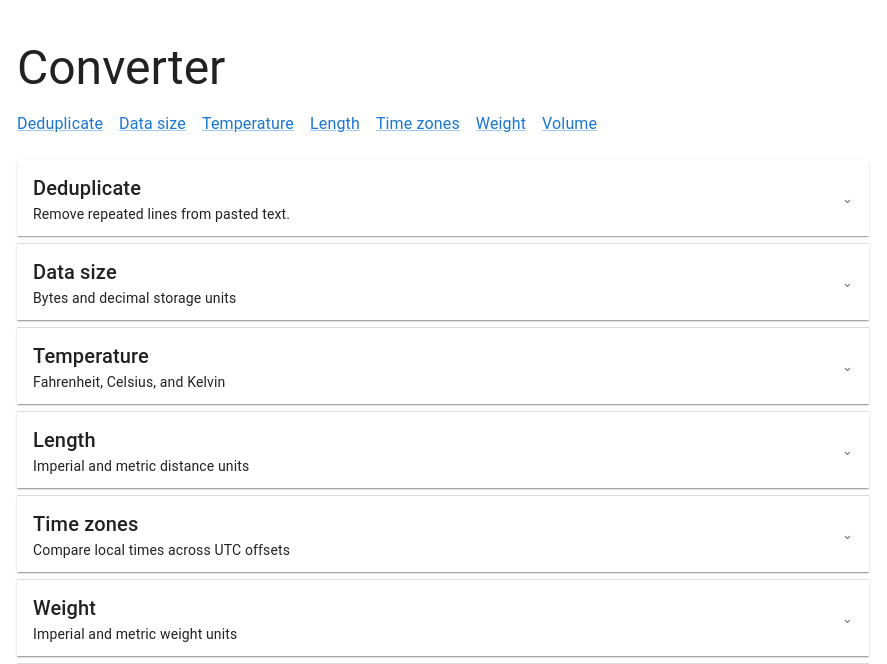
Test: converter app › calculates all standard outputs and reveals advanced results
This screenshot has width=887, height=664.
Click the button "Data size Bytes and decimal storage units ⌄".
click(75, 272)  # box [17,244,869,320]
(page scrolled)
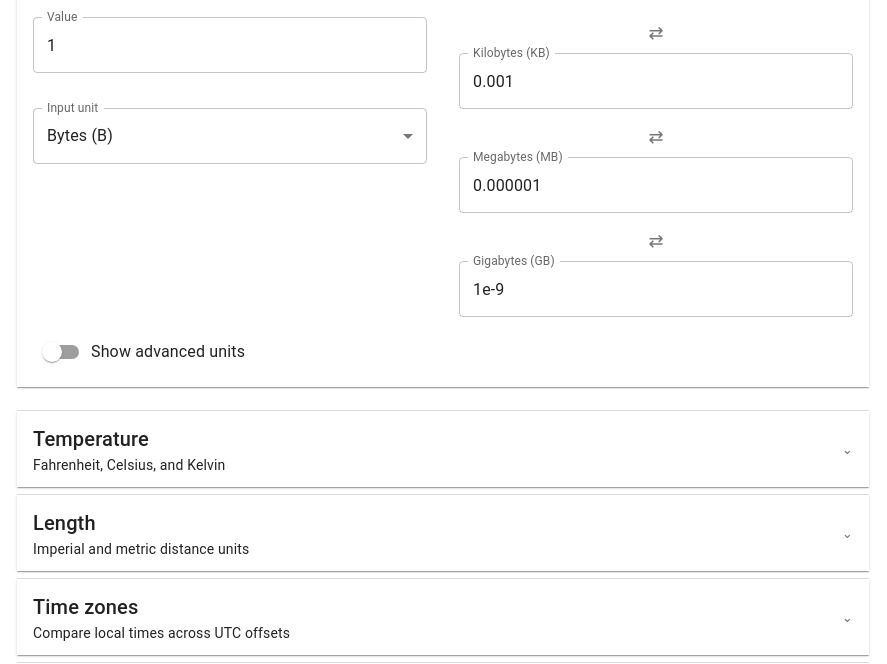
Expected: the field labelled "Kilobytes (KB)" is shown, [459,53,853,109]
Expected: the field labelled "Megabytes (MB)" is shown, [459,157,853,213]
Expected: the field labelled "Gigabytes (GB)" is shown, [459,261,853,317]
Click the switch labelled "Show advanced units".
click(144, 352)  # box [42,342,245,362]
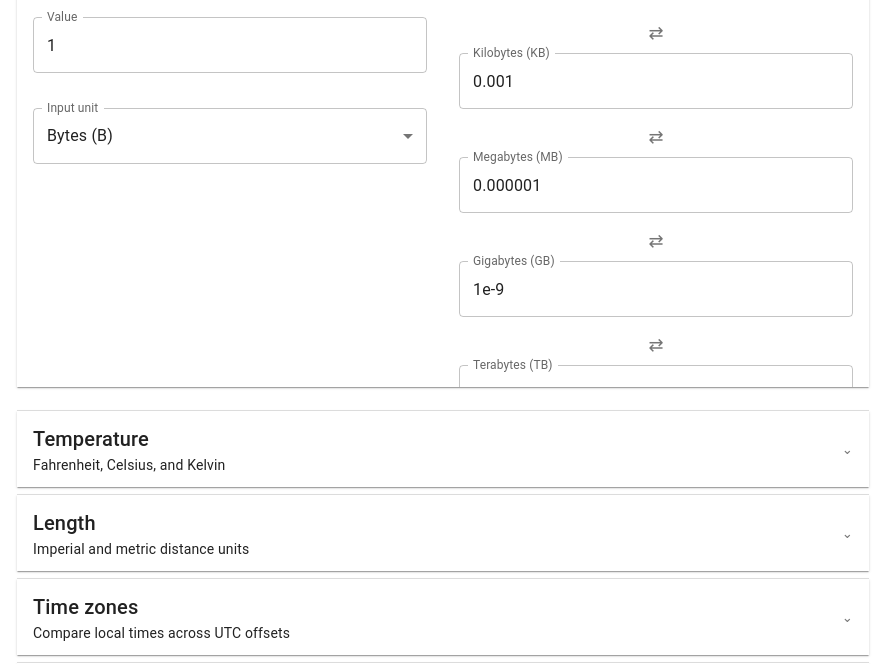
Replace the text in the number field labelled "Value" with "1000" at [230, 45], box [33,17,427,73]
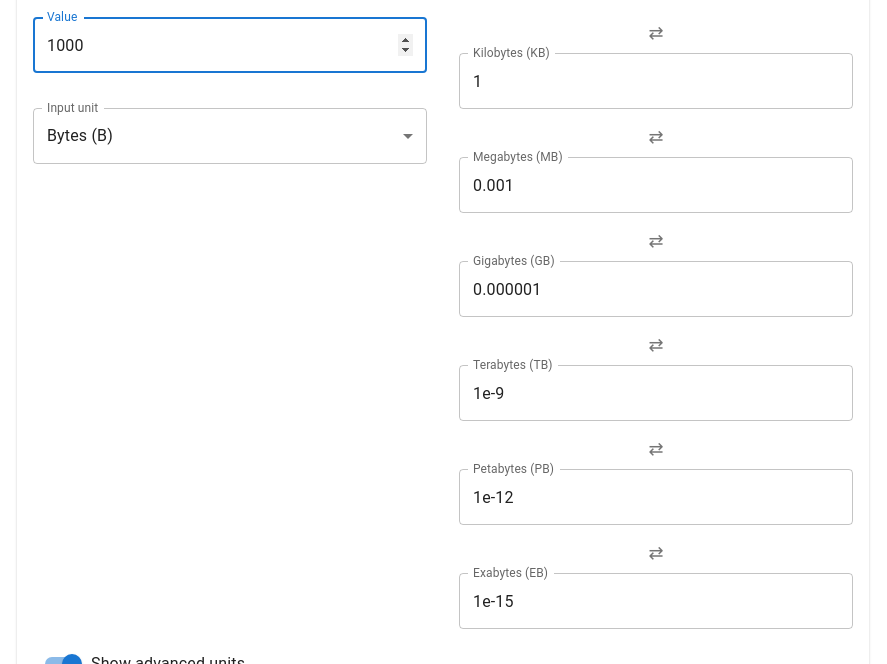
Expected: the field labelled "Megabytes (MB)" holds "0.001", [459,157,853,213]
Expected: the field labelled "Gigabytes (GB)" holds "0.000001", [459,261,853,317]
